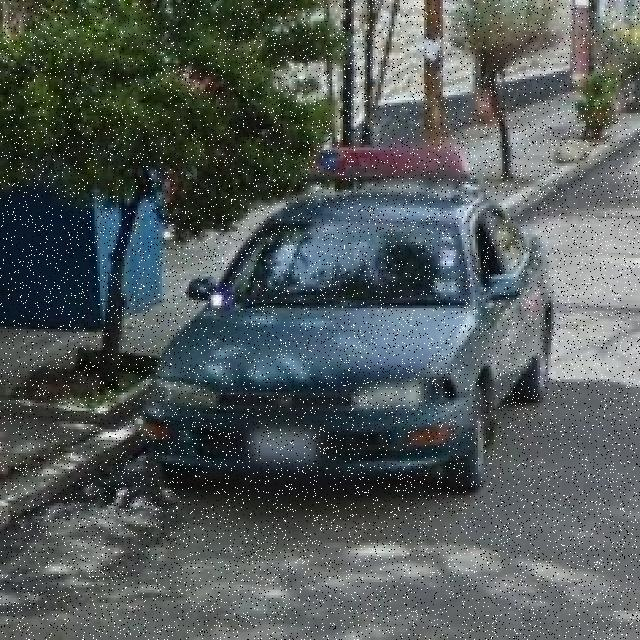cars: (156, 181, 555, 501)
